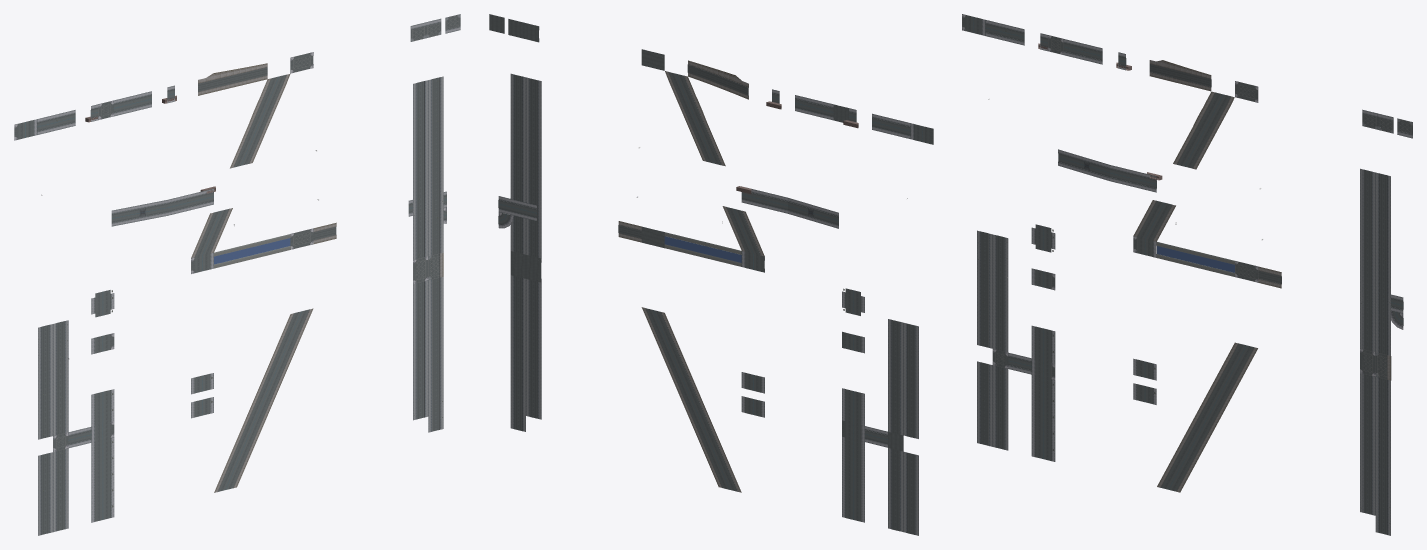
Rendered from comnbtm_comnbtm__part_04.obj.
The picture shows the model from 3 angles, left to right: view 1: azimuth 30°, elevation 25°; view 2: azimuth 150°, elevation 25°; view 3: azimuth 330°, elevation 25°; orthographic projection. The views are drawn at different scales.
Parts seen in each view (by area): view 1: comnbtm_comnbtm__part_04; view 2: comnbtm_comnbtm__part_04; view 3: comnbtm_comnbtm__part_04.
Boxes of the visible parts, box(x1,y1,x2,y2) form: comnbtm_comnbtm__part_04: box(14, 14, 460, 535); comnbtm_comnbtm__part_04: box(489, 14, 933, 535); comnbtm_comnbtm__part_04: box(962, 14, 1412, 535).
Size of the model in its own units: 580 by 520 by 16.89.
Materials: 96 (92 with a texture image).
